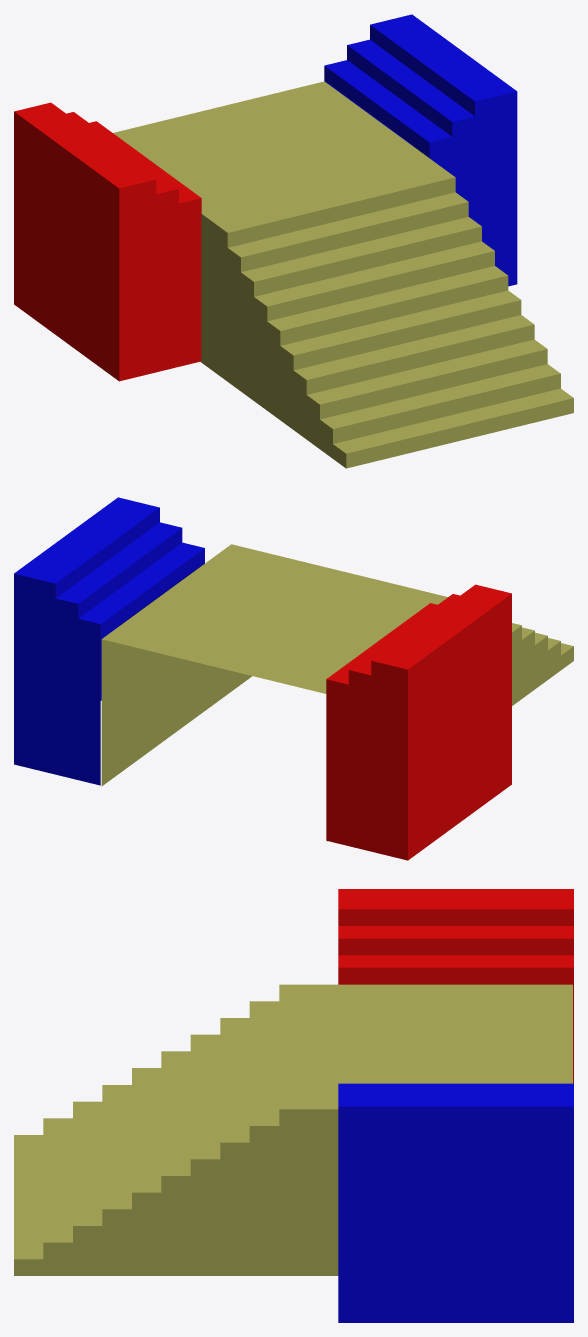
The model's file is Stairs.fbx.
3 views of the same model, one above another, from view 1: azimuth 30°, elevation 25°; view 2: azimuth 150°, elevation 25°; view 3: azimuth 270°, elevation 25° (orthographic). The views are drawn at different scales.
Parts seen in each view (by area): view 1: Main_Stair2, Stairs_Left, Stairs_Right1; view 2: Main_Stair2, Stairs_Left, Stairs_Right1; view 3: Main_Stair2, Stairs_Right1, Stairs_Left.
Part boxes in pixels (x1,y1,x2,y2): Main_Stair2: [113, 81, 573, 468]; Stairs_Left: [14, 102, 201, 381]; Stairs_Right1: [324, 14, 517, 286]; Main_Stair2: [101, 544, 573, 841]; Stairs_Left: [326, 584, 511, 860]; Stairs_Right1: [14, 497, 204, 785]; Main_Stair2: [14, 984, 572, 1275]; Stairs_Right1: [338, 1083, 573, 1322]; Stairs_Left: [338, 889, 573, 1083].
Bounding box in the file's own units: 699 × 326 × 760.
